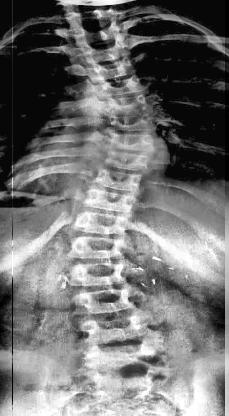Vertebrae: (75, 316, 154, 341), (74, 288, 136, 312), (72, 261, 132, 285), (70, 235, 122, 257), (94, 170, 146, 192), (102, 153, 152, 173), (74, 216, 128, 234), (72, 23, 122, 42), (108, 133, 154, 153), (80, 40, 126, 60), (86, 194, 136, 212), (96, 78, 144, 96), (103, 94, 150, 112), (94, 60, 134, 78), (110, 116, 154, 132)
